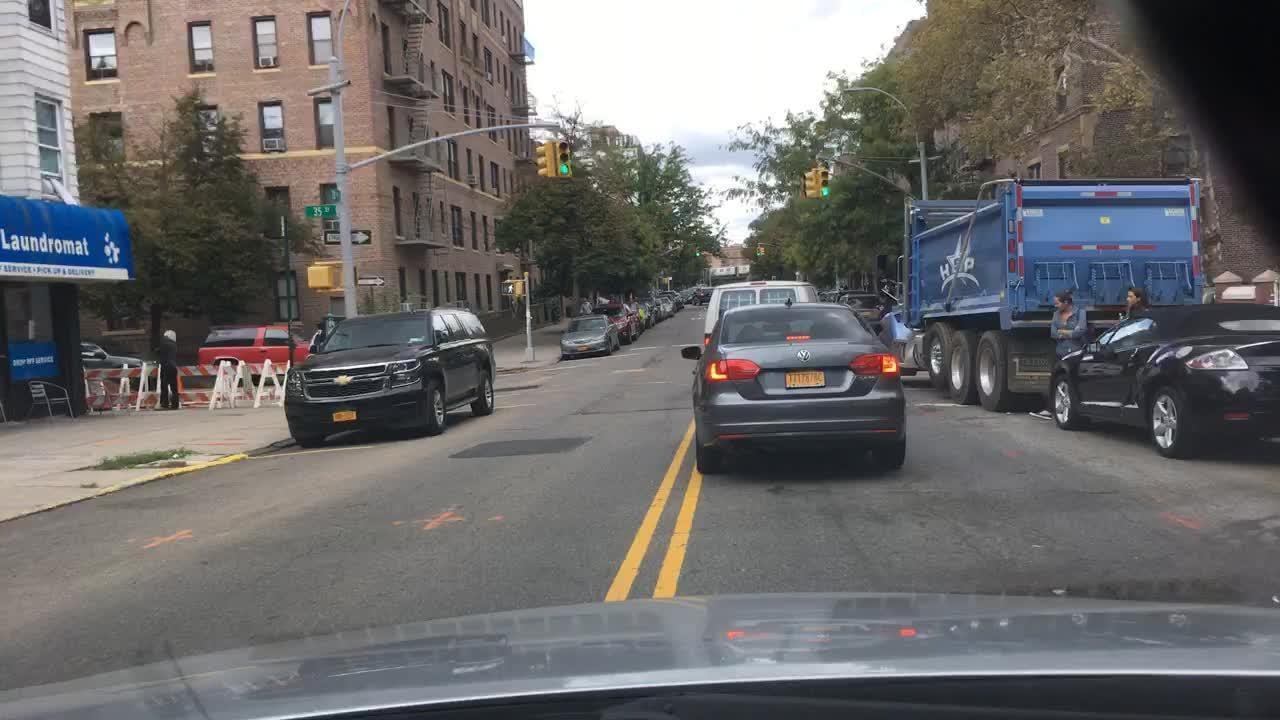Volkswagen: (793, 344, 816, 365)
chevrolet: (332, 373, 355, 391)
